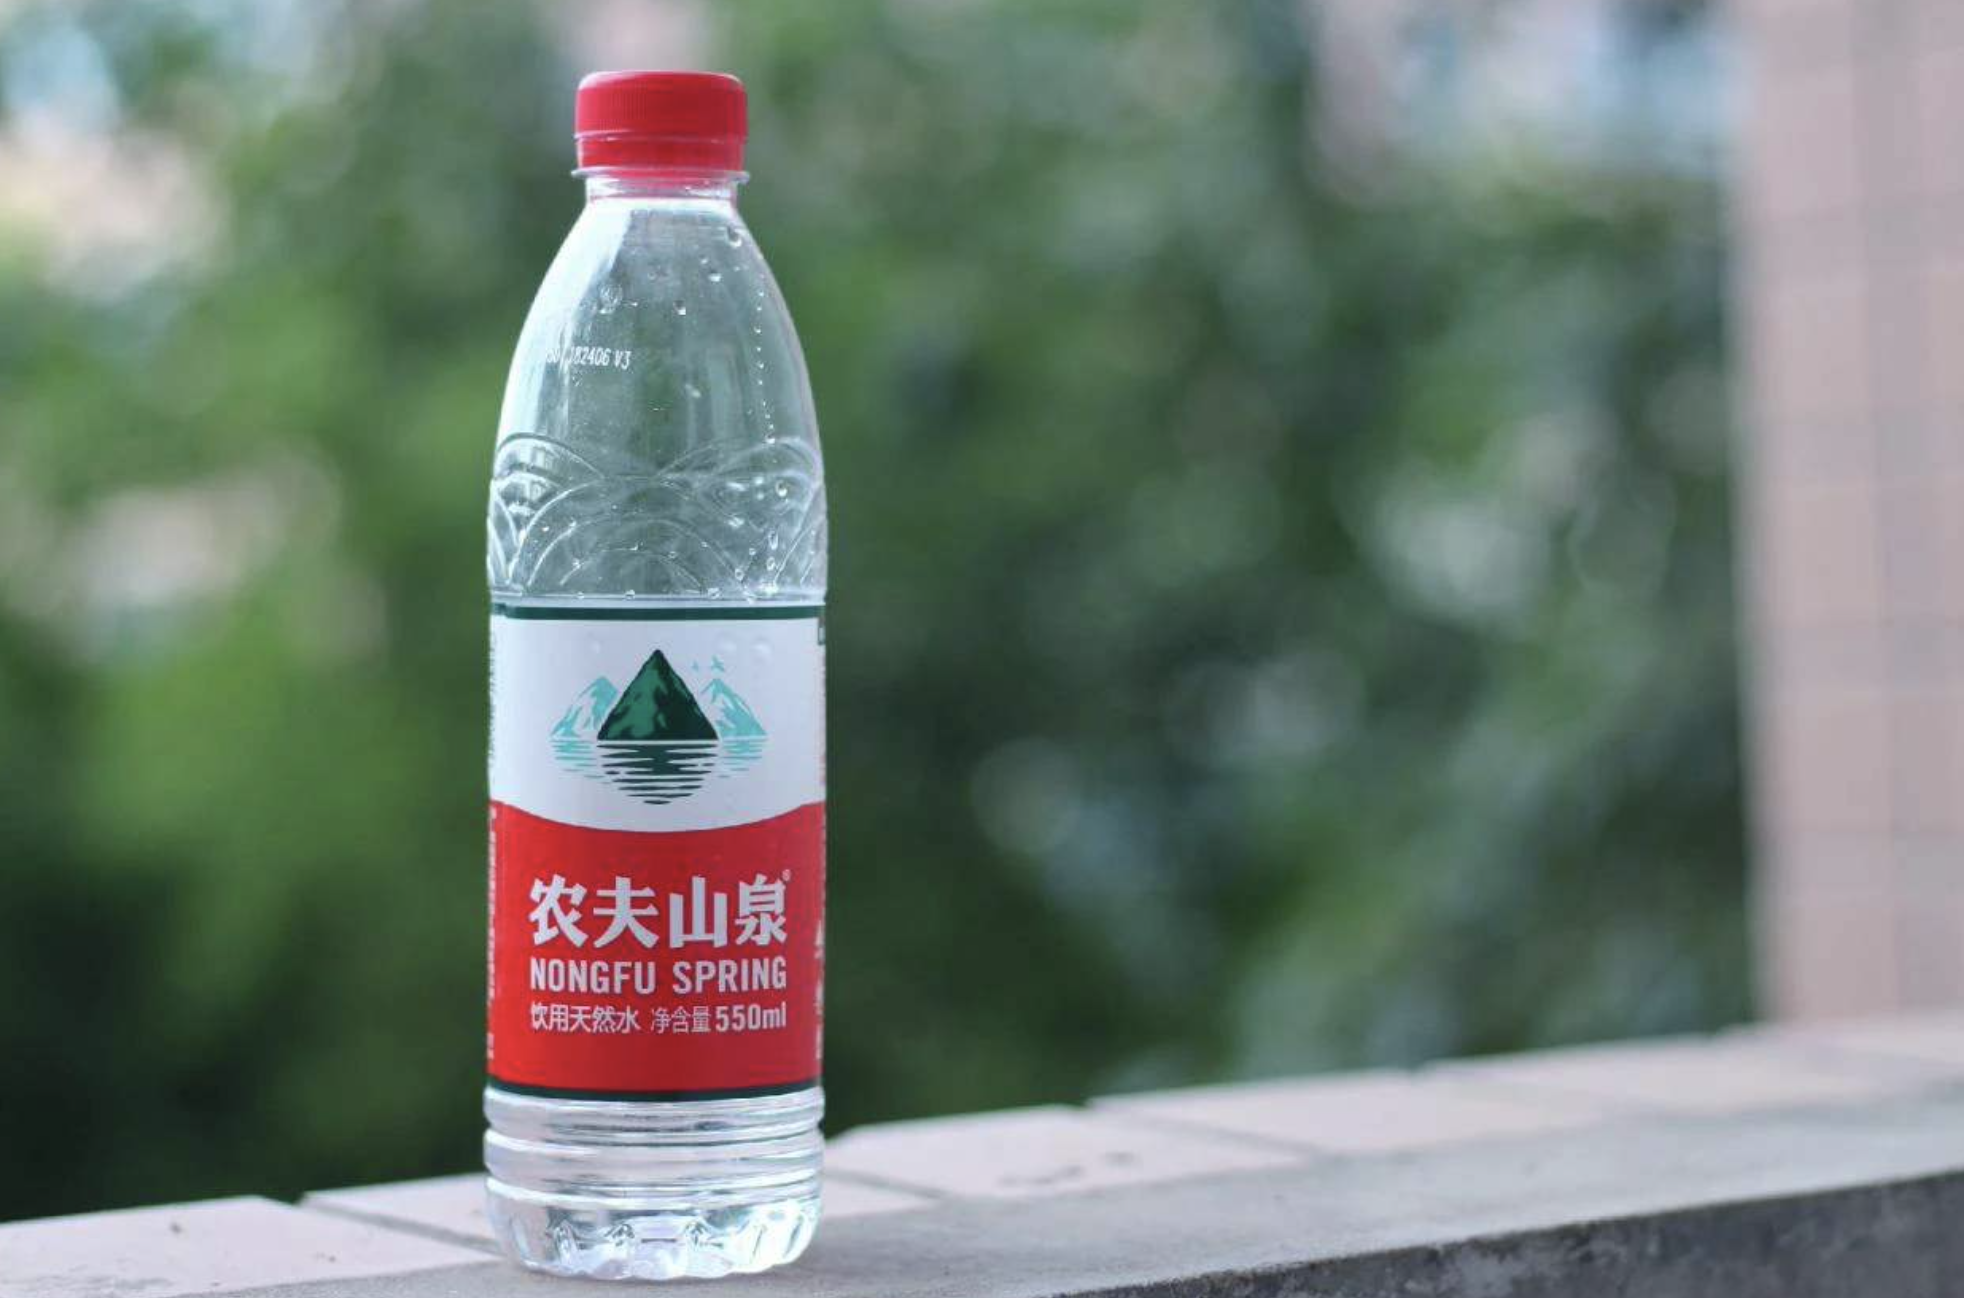农夫山泉: (461, 39, 855, 1269)
